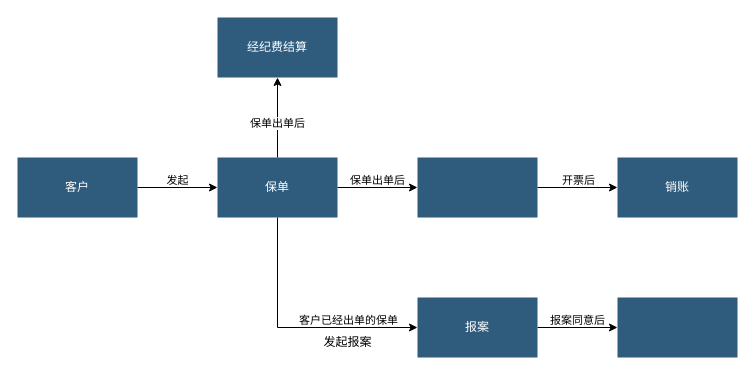
Image size: 754x374. Some labels were removed from this diagram. Here are the shapes that lost their labels. From the top down, the centre of each, then its label:
At point 477,187: "开票".
At point 677,327: "理赔".
